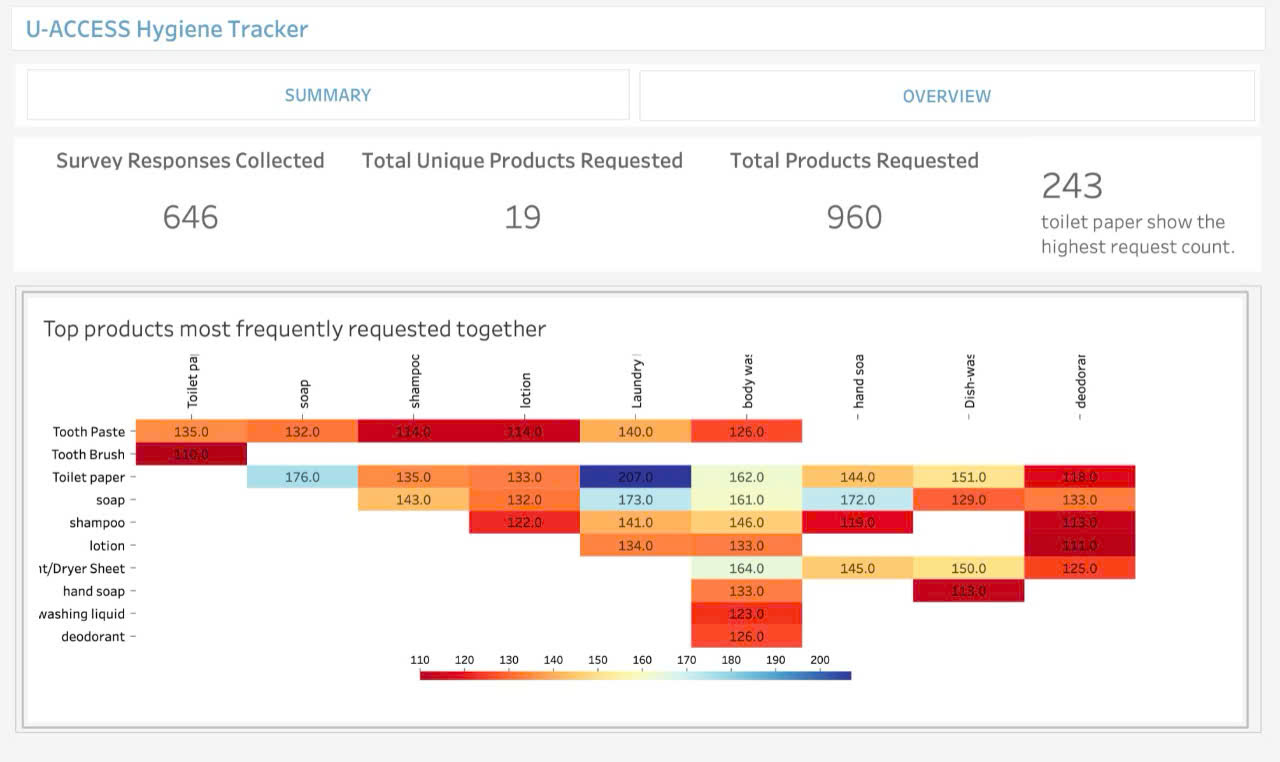

The page's visual inventory and layout, read from the dashboard file:
{"tool":"tableau","page":{"name":"Dashboard 1 (2)","canvas":[1200,700],"ordinal":1},"visuals":[{"type":"text","box":[8,8,1184,62]},{"type":"blank","box":[18,68,1162,66]},{"type":"dashboard-object","box":[33,77,559,47]},{"type":"dashboard-object","box":[601,78,571,47]},{"type":"worksheet","title":"1st 3 key metrics","mark":"Automatic","box":[17,136,960,132]},{"type":"blank","box":[8,137,1184,555]},{"type":"text","box":[961,139,217,125]},{"type":"worksheet","title":"Top products most frequently requested together","box":[30,284,1134,401]}]}

Visuals, with their boxes in screenshot pixels (x1, y1, x2, y2), scaled from the page's 1200x700 canvas onto the 1280x762 screenshot:
text: [left=9, top=9, right=1271, bottom=76]
blank: [left=19, top=74, right=1259, bottom=146]
dashboard-object: [left=35, top=84, right=631, bottom=135]
dashboard-object: [left=641, top=85, right=1250, bottom=136]
"1st 3 key metrics" worksheet: [left=18, top=148, right=1042, bottom=292]
blank: [left=9, top=149, right=1271, bottom=753]
text: [left=1025, top=151, right=1257, bottom=287]
"Top products most frequently requested together" worksheet: [left=32, top=309, right=1242, bottom=746]
